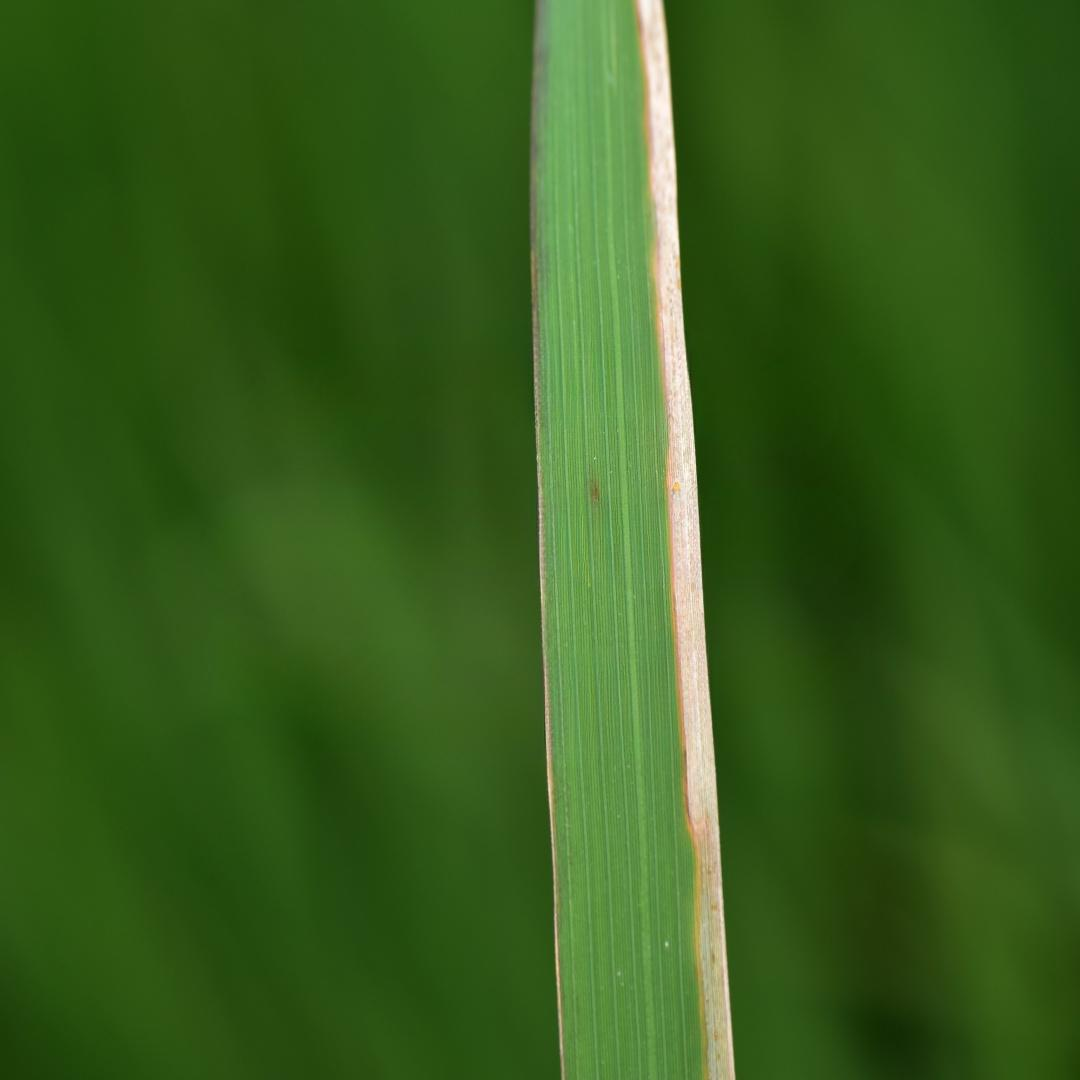BLB: (635, 0, 733, 1079)
LEAF: (531, 0, 734, 1079)
